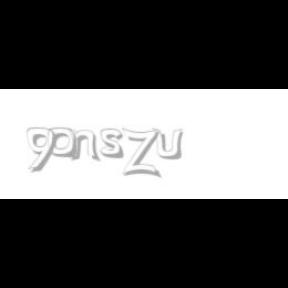9: (26, 128, 55, 172)
Z: (122, 128, 160, 178)
n: (67, 128, 101, 162)
o: (48, 128, 76, 158)
s: (100, 128, 128, 160)
u: (152, 128, 186, 160)
